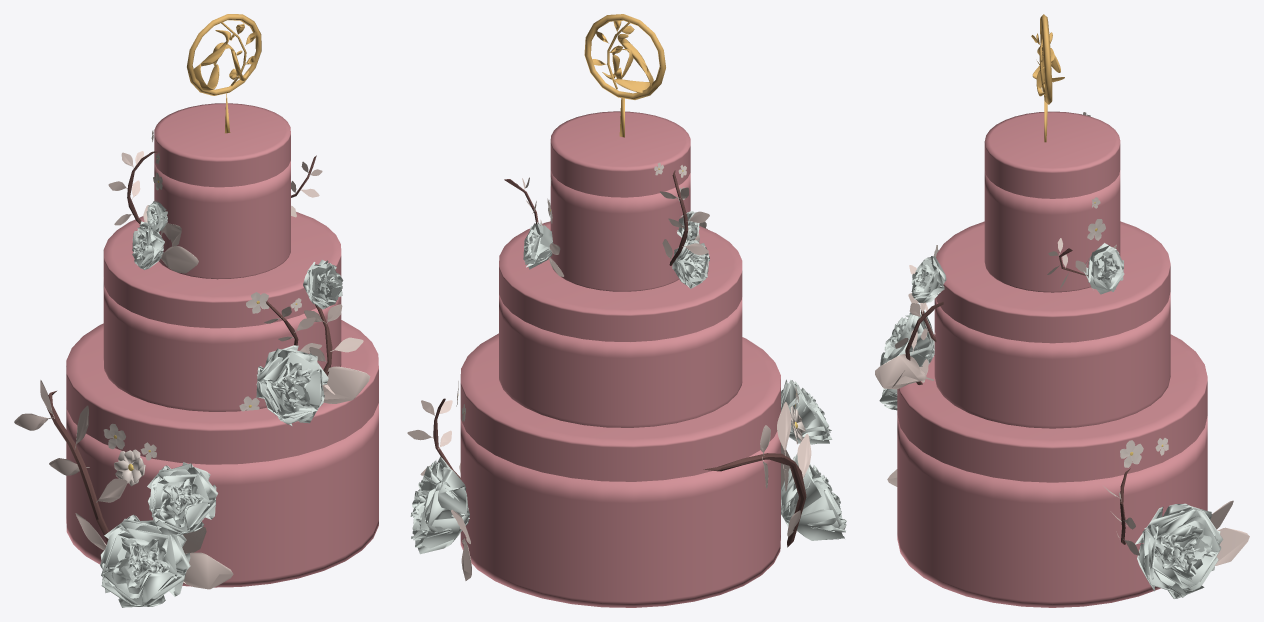
The model's file is 3-tier-blush-roses-ring.glb.
3 renders of one model, left to right at view 1: azimuth 30°, elevation 25°; view 2: azimuth 150°, elevation 25°; view 3: azimuth 270°, elevation 25°, orthographic. The views are drawn at different scales.
Visible parts, largest first — view 1: Cylinder.022, Cylinder.014, Cylinder.021, grid.042, grid.044, grid.040, Plane.093, Cylinder.020, grid.043, Plane.087, Plane.091, Plane.095 (+6 smaller); view 2: Cylinder.022, Cylinder.014, Cylinder.021, grid.029, Cylinder.020, grid.042, Plane.093, grid.040, grid.045, Plane.092, grid.047, Plane.084; view 3: Cylinder.022, Cylinder.014, Cylinder.021, grid.029, grid.044, Cylinder.020, grid.047, Plane.087, grid.043, Plane.095, Plane.082, Plane.084.
Part boxes in pixels (left/top/right/bottom): Cylinder.022: left=66, top=320, right=378, bottom=587; Cylinder.014: left=103, top=212, right=341, bottom=411; Cylinder.021: left=154, top=103, right=290, bottom=279; grid.042: left=100, top=514, right=190, bottom=607; grid.044: left=256, top=345, right=328, bottom=426; grid.040: left=147, top=462, right=217, bottom=537; Plane.093: left=14, top=380, right=127, bottom=550; Cylinder.020: left=187, top=14, right=261, bottom=133; grid.043: left=303, top=259, right=343, bottom=309; Plane.087: left=322, top=366, right=370, bottom=403; Plane.091: left=183, top=552, right=233, bottom=589; Plane.095: left=304, top=304, right=363, bottom=394; Cylinder.022: left=460, top=333, right=780, bottom=607; Cylinder.014: left=499, top=221, right=742, bottom=427; Cylinder.021: left=550, top=111, right=690, bottom=291; grid.029: left=410, top=456, right=469, bottom=554; Cylinder.020: left=584, top=14, right=665, bottom=137; grid.042: left=781, top=453, right=846, bottom=540; Plane.093: left=703, top=402, right=811, bottom=547; grid.040: left=781, top=379, right=832, bottom=444; grid.045: left=672, top=240, right=709, bottom=288; Plane.092: left=660, top=170, right=709, bottom=265; grid.047: left=523, top=222, right=552, bottom=269; Plane.084: left=407, top=398, right=460, bottom=478; Cylinder.022: left=897, top=334, right=1207, bottom=607; Cylinder.014: left=934, top=221, right=1170, bottom=428; Cylinder.021: left=984, top=111, right=1120, bottom=292; grid.029: left=1135, top=503, right=1222, bottom=598; grid.044: left=880, top=311, right=934, bottom=366; Cylinder.020: left=1031, top=14, right=1064, bottom=142; grid.047: left=1083, top=243, right=1124, bottom=294; Plane.087: left=875, top=354, right=933, bottom=389; grid.043: left=911, top=256, right=946, bottom=303; Plane.095: left=892, top=302, right=943, bottom=387; Plane.082: left=1215, top=527, right=1249, bottom=565; Plane.084: left=1103, top=468, right=1139, bottom=555.
Bounding box in the file's own units: 5.28 × 7.56 × 4.9.
